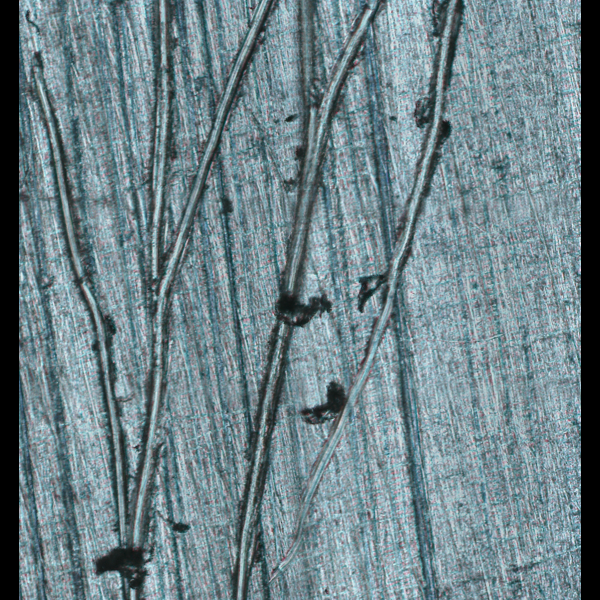d: (23, 0, 488, 600)
